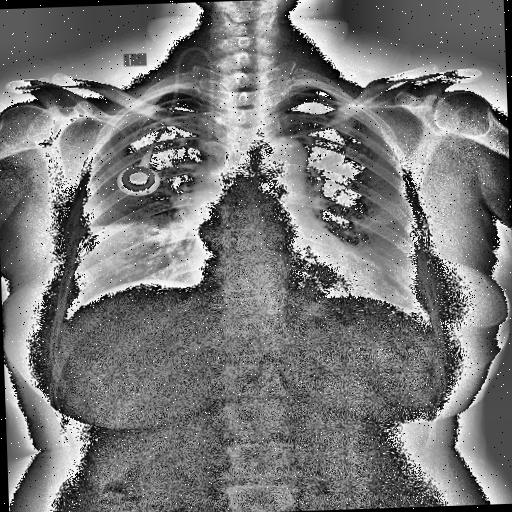0- Aortic enlargement: (252, 133, 308, 184), (266, 134, 308, 169)
3- Cardiomegaly: (186, 224, 390, 302), (188, 244, 390, 312), (184, 252, 390, 306)
6- Infiltration: (74, 219, 166, 269)
7- Lung Opacity: (66, 217, 175, 285), (340, 228, 420, 308), (70, 220, 161, 286), (74, 219, 166, 269)
